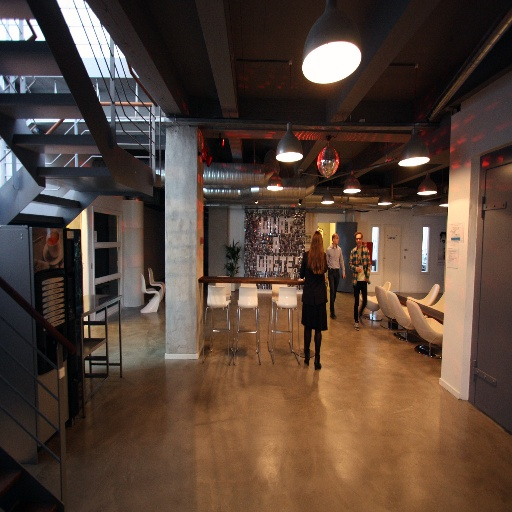hand: (356, 267, 361, 274), (342, 273, 346, 280)
